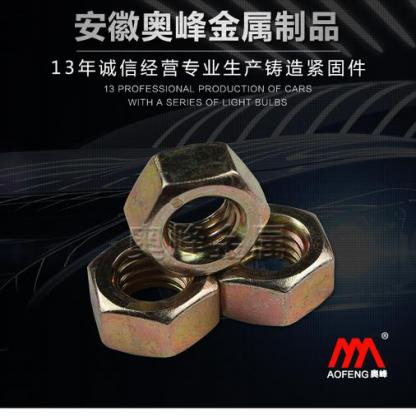FOD: (121, 141, 272, 276), (197, 199, 338, 329), (85, 230, 222, 361)
